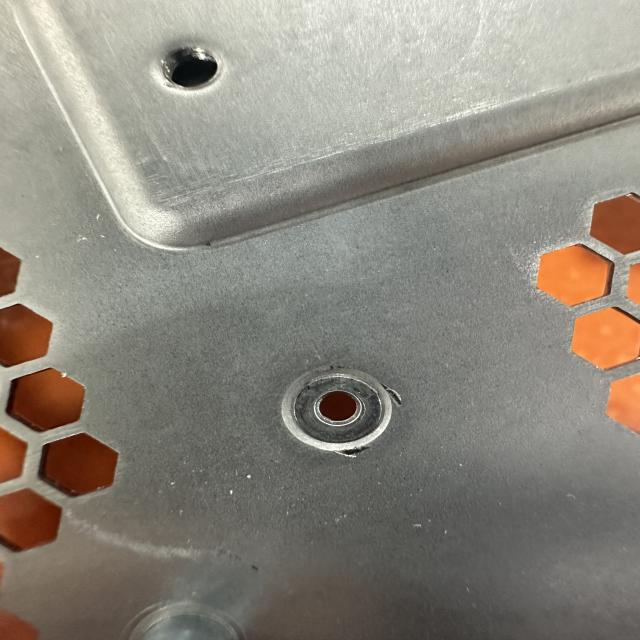Missing screw: (270, 360, 404, 457)
